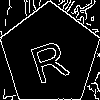R: (24, 30, 71, 85)
